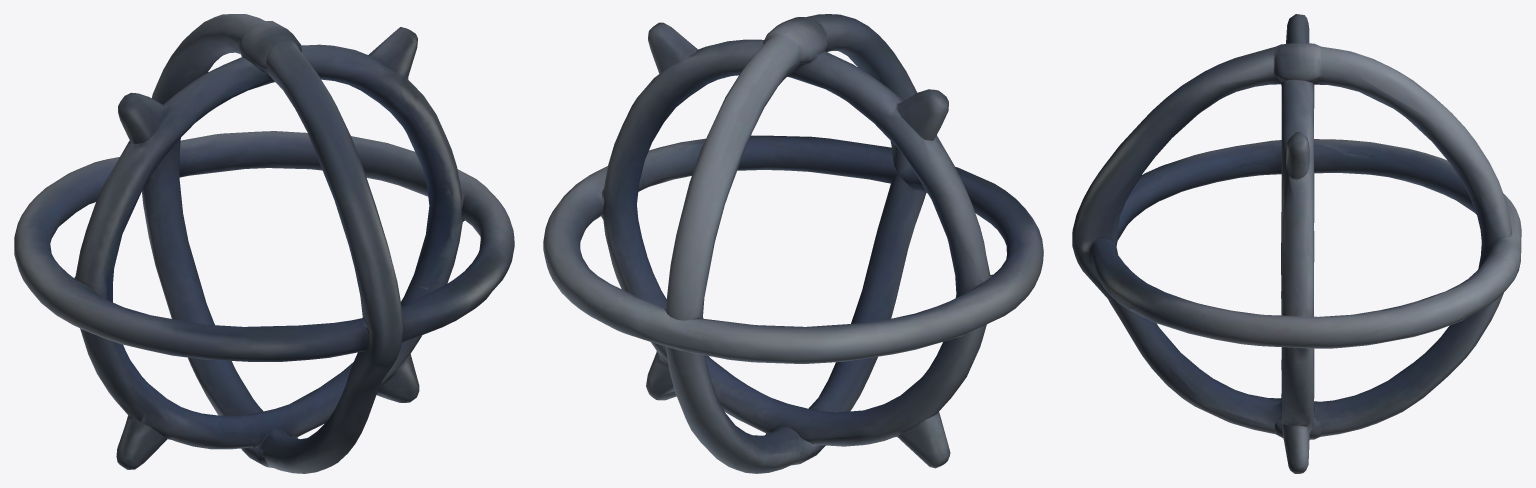
Rendered from m2HazardOrb.glb.
3 views of the same model, side by side, from view 1: azimuth 30°, elevation 25°; view 2: azimuth 150°, elevation 25°; view 3: azimuth 270°, elevation 25° (orthographic). The views are drawn at different scales.
Parts seen in each view (by area): view 1: model; view 2: model; view 3: model.
Part boxes in pixels (x1,y1,x2,y2): model: (14,14,514,473); model: (543,14,1043,473); model: (1072,14,1521,473).
Bounding box in the file's own units: 1.9 × 1.8 × 1.87.
Materials: 1 (1 with a texture image).
